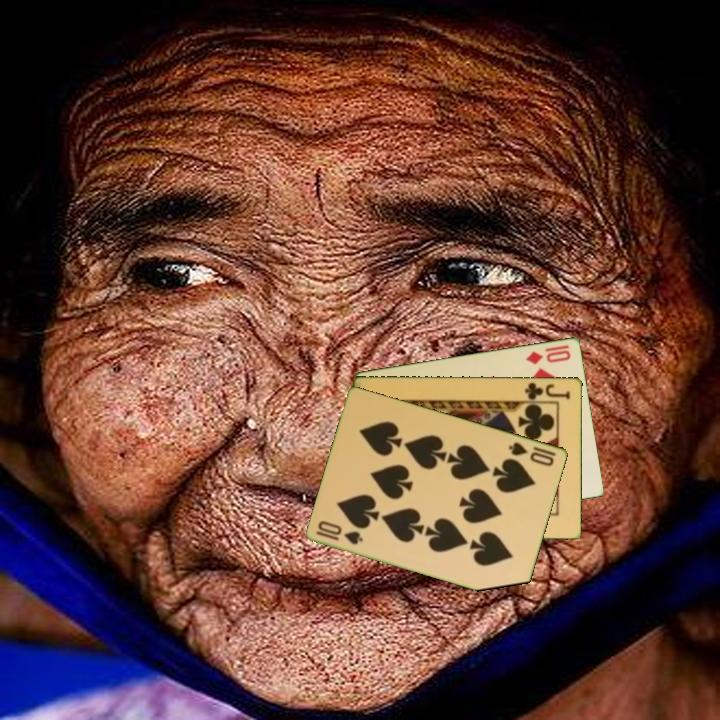10d: (522, 346, 574, 367)
10s: (313, 517, 366, 548), (506, 438, 557, 469)
Jc: (522, 378, 573, 402)
